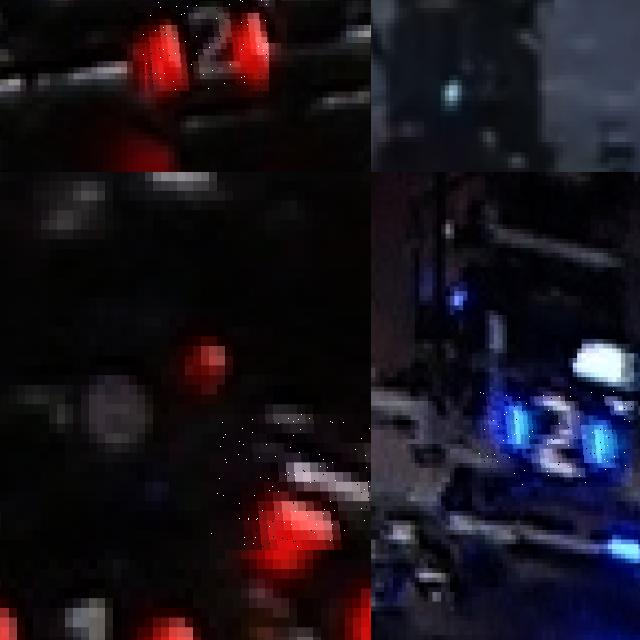B2: (478, 387, 632, 487)
R1: (209, 414, 371, 550), (0, 574, 209, 640), (305, 520, 371, 640)
R2: (138, 0, 269, 91)
